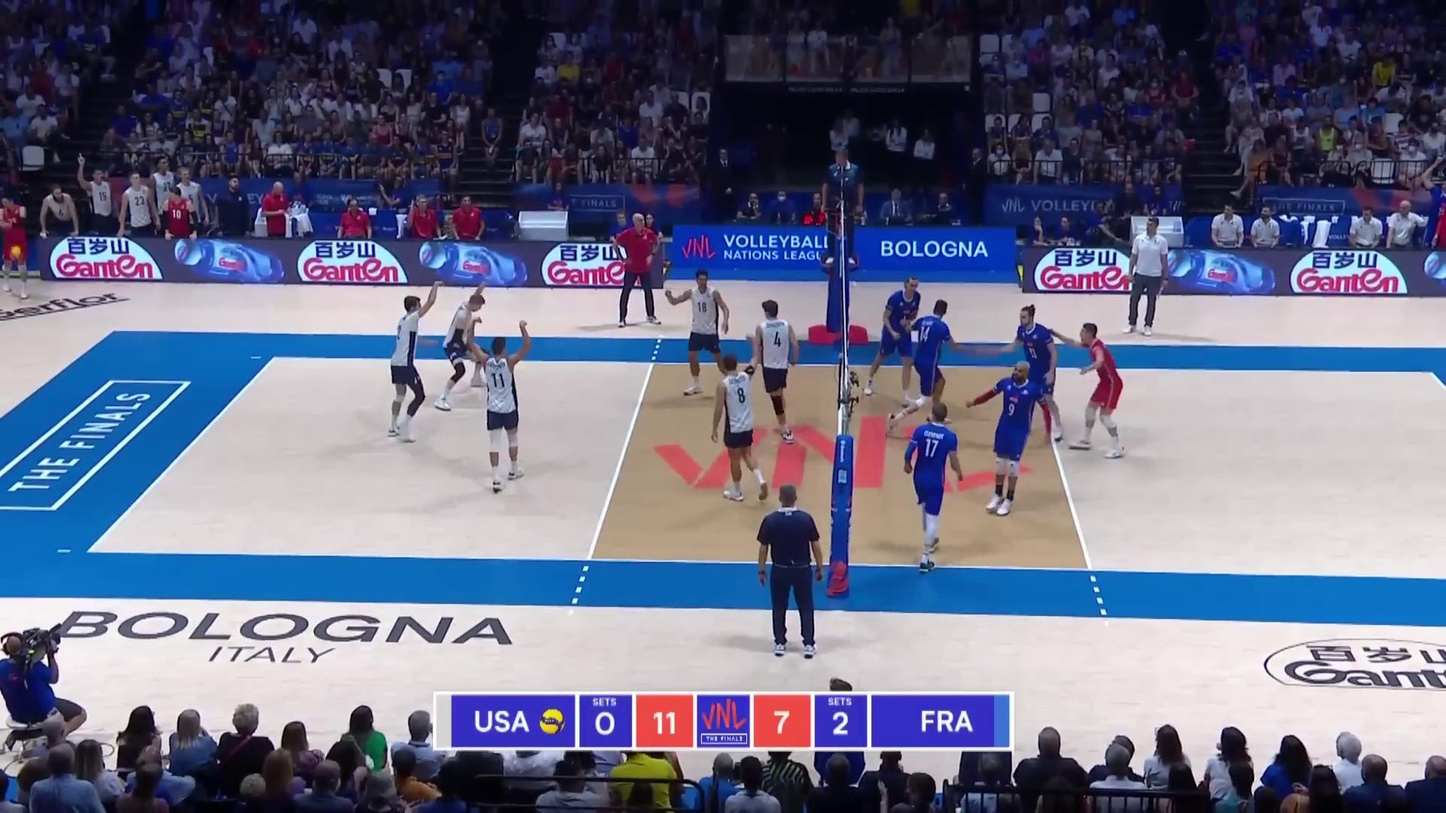player: (970, 363, 1046, 517), (903, 404, 963, 572), (712, 354, 769, 501), (1003, 306, 1063, 442), (858, 276, 921, 402), (1071, 322, 1128, 458), (894, 301, 953, 431), (747, 301, 800, 442), (676, 270, 731, 400), (480, 336, 525, 494), (436, 293, 488, 411), (390, 294, 430, 444)
refree: (759, 487, 828, 658), (824, 144, 865, 264)
